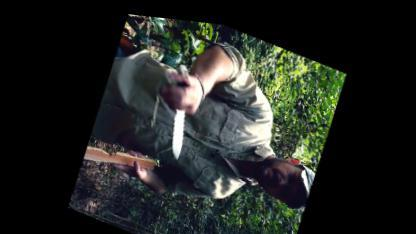knife: (142, 67, 204, 164)
